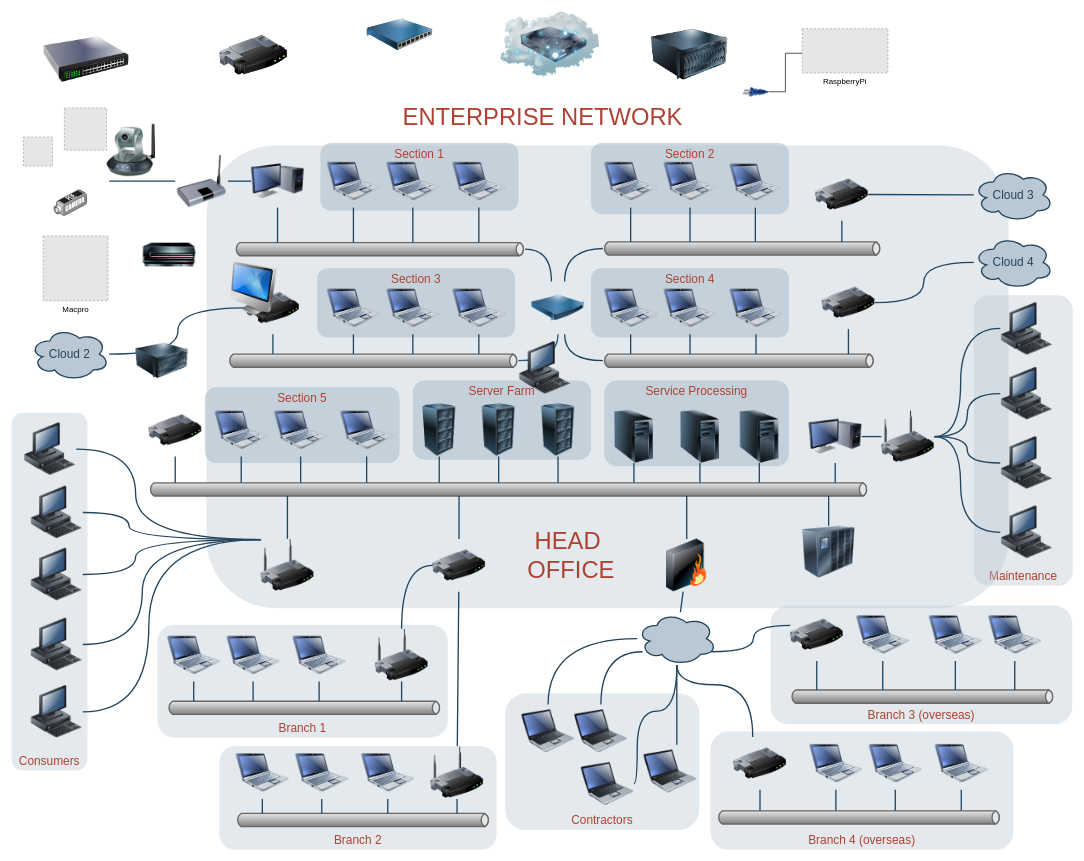
Image size: 1084x861. Some labels were removed from this diagram. Grey dashed boxes stand in for pictures. Here are the shapes that lost their labels. From the top down, the centre of each, then its label:
At (168,254): "Holophonix".
At (676,638): "Internet".
